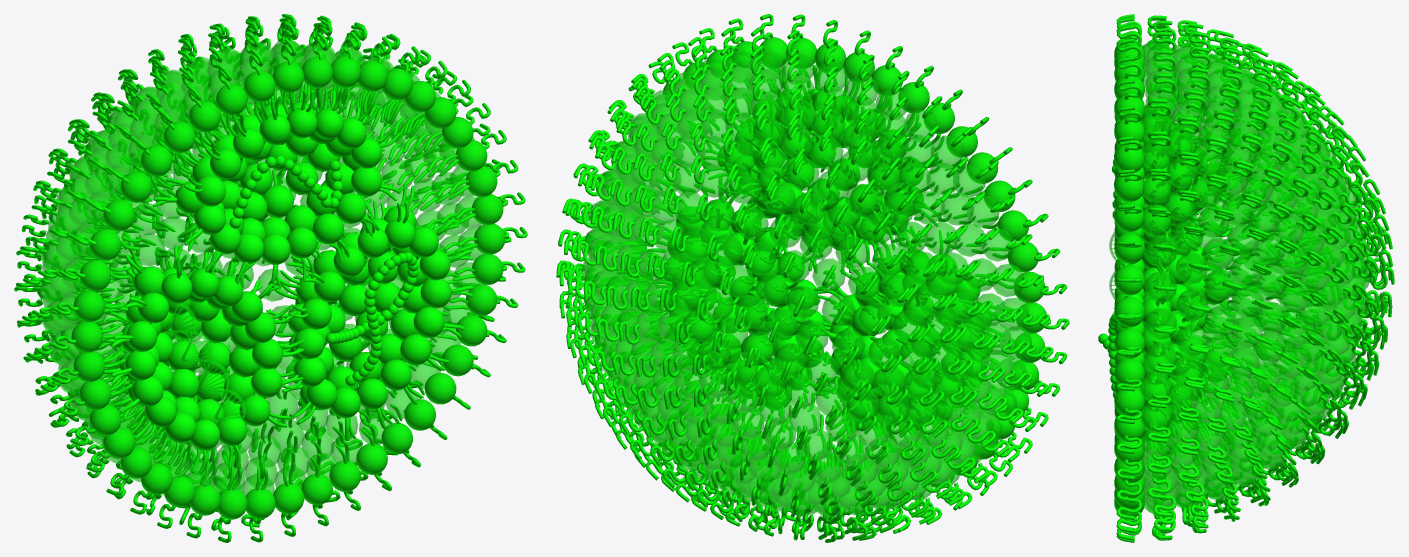
The model's file is micela-optimized.glb.
3 renders of one model, left to right at view 1: azimuth 30°, elevation 25°; view 2: azimuth 150°, elevation 25°; view 3: azimuth 270°, elevation 25°, orthographic. The views are drawn at different scales.
Parts seen in each view (by area): view 1: LIPOSOME-boules-fond_LIPOSOME-BOULES-FOND_0, VEHICULE-boules-claires_VEHICULE-BOULE-claires_0, LIPOSOME-boules-claires_COULEUR-01 claire_0, VEHICULE-boules-fond_VEHICULE-BOULE-fond_0, LIPOSOME-serpentins_LIPOSOME-Serpentins_0, LIPOSOME-jambes_1_LIPOSOME-jambes_surf_0, VEHICULE-jambes_1_VEHICULE-jambes_surf_0, PEPTIDE-B:PEPTIDE-B-UV_PEPTIDE-B-UV_0, PEPTIDE-A:PEPTIDE-A-UV_PEPTIDE-A-UV_0, helice_adn:DNA-UV_TEXTURE-UV_0; view 2: LIPOSOME-boules-fond_LIPOSOME-BOULES-FOND_0, LIPOSOME-serpentins_LIPOSOME-Serpentins_0, VEHICULE-boules-fond_VEHICULE-BOULE-fond_0, LIPOSOME-jambes_1_LIPOSOME-jambes_surf_0, LIPOSOME-boules-claires_COULEUR-01 claire_0, VEHICULE-jambes_1_VEHICULE-jambes_surf_0, VEHICULE-boules-claires_VEHICULE-BOULE-claires_0; view 3: LIPOSOME-boules-fond_LIPOSOME-BOULES-FOND_0, LIPOSOME-serpentins_LIPOSOME-Serpentins_0, LIPOSOME-jambes_1_LIPOSOME-jambes_surf_0, VEHICULE-boules-fond_VEHICULE-BOULE-fond_0, LIPOSOME-boules-claires_COULEUR-01 claire_0, VEHICULE-jambes_1_VEHICULE-jambes_surf_0, VEHICULE-boules-claires_VEHICULE-BOULE-claires_0, PEPTIDE-B:PEPTIDE-B-UV_PEPTIDE-B-UV_0.
Part boxes in pixels (bbox=[...]): LIPOSOME-boules-fond_LIPOSOME-BOULES-FOND_0: bbox=[39, 39, 483, 495]; VEHICULE-boules-claires_VEHICULE-BOULE-claires_0: bbox=[125, 107, 451, 450]; LIPOSOME-boules-claires_COULEUR-01 claire_0: bbox=[71, 56, 505, 519]; VEHICULE-boules-fond_VEHICULE-BOULE-fond_0: bbox=[119, 101, 428, 424]; LIPOSOME-serpentins_LIPOSOME-Serpentins_0: bbox=[14, 14, 527, 542]; LIPOSOME-jambes_1_LIPOSOME-jambes_surf_0: bbox=[73, 81, 477, 490]; VEHICULE-jambes_1_VEHICULE-jambes_surf_0: bbox=[98, 85, 473, 473]; PEPTIDE-B:PEPTIDE-B-UV_PEPTIDE-B-UV_0: bbox=[325, 252, 418, 386]; PEPTIDE-A:PEPTIDE-A-UV_PEPTIDE-A-UV_0: bbox=[229, 155, 343, 228]; helice_adn:DNA-UV_TEXTURE-UV_0: bbox=[165, 303, 245, 420]; LIPOSOME-boules-fond_LIPOSOME-BOULES-FOND_0: bbox=[581, 50, 1031, 517]; LIPOSOME-serpentins_LIPOSOME-Serpentins_0: bbox=[556, 14, 1069, 542]; VEHICULE-boules-fond_VEHICULE-BOULE-fond_0: bbox=[663, 103, 972, 430]; LIPOSOME-jambes_1_LIPOSOME-jambes_surf_0: bbox=[615, 68, 1015, 483]; LIPOSOME-boules-claires_COULEUR-01 claire_0: bbox=[626, 37, 1046, 487]; VEHICULE-jambes_1_VEHICULE-jambes_surf_0: bbox=[642, 65, 1014, 452]; VEHICULE-boules-claires_VEHICULE-BOULE-claires_0: bbox=[699, 88, 992, 429]; LIPOSOME-boules-fond_LIPOSOME-BOULES-FOND_0: bbox=[1140, 40, 1370, 516]; LIPOSOME-serpentins_LIPOSOME-Serpentins_0: bbox=[1116, 14, 1394, 542]; LIPOSOME-jambes_1_LIPOSOME-jambes_surf_0: bbox=[1124, 75, 1336, 474]; VEHICULE-boules-fond_VEHICULE-BOULE-fond_0: bbox=[1141, 103, 1229, 445]; LIPOSOME-boules-claires_COULEUR-01 claire_0: bbox=[1114, 38, 1144, 517]; VEHICULE-jambes_1_VEHICULE-jambes_surf_0: bbox=[1119, 84, 1250, 464]; VEHICULE-boules-claires_VEHICULE-BOULE-claires_0: bbox=[1114, 114, 1144, 444]; PEPTIDE-B:PEPTIDE-B-UV_PEPTIDE-B-UV_0: bbox=[1098, 314, 1143, 398].
Size of the model in its own units: 0.7063 by 0.7063 by 0.3961.
10 materials, 5 textured.
